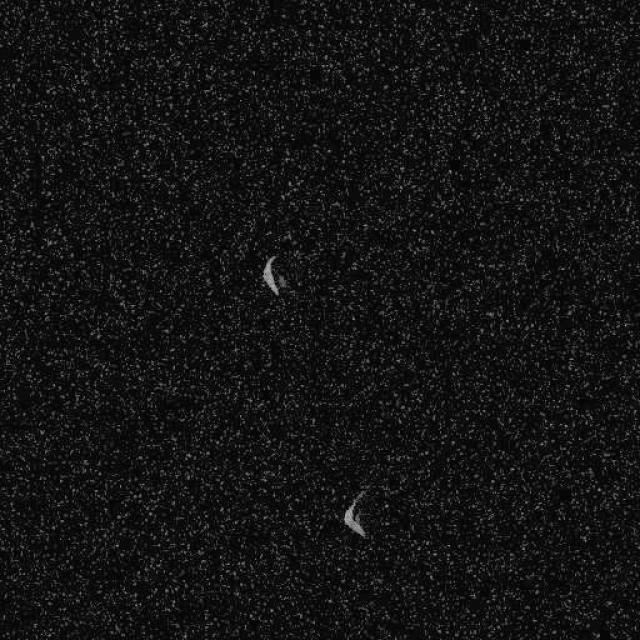D2: (341, 488, 370, 538), (260, 254, 281, 296)
